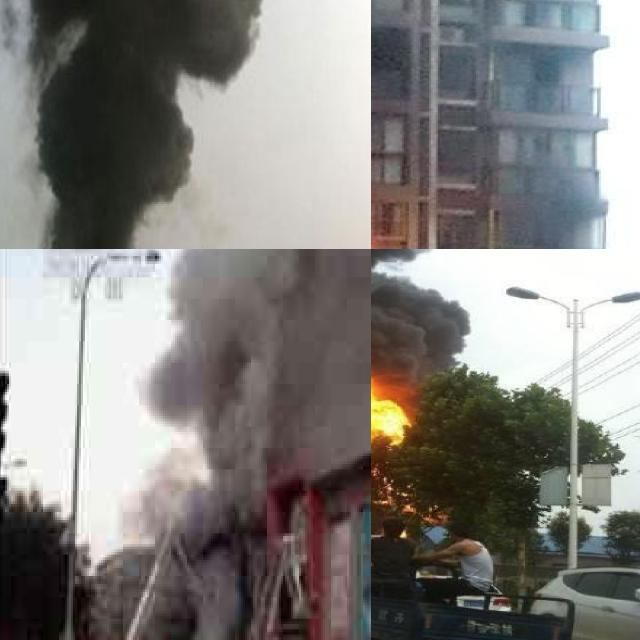fire: (371, 369, 413, 468)
smoke: (0, 0, 265, 249), (165, 249, 371, 439), (371, 249, 470, 524), (149, 533, 247, 640)
